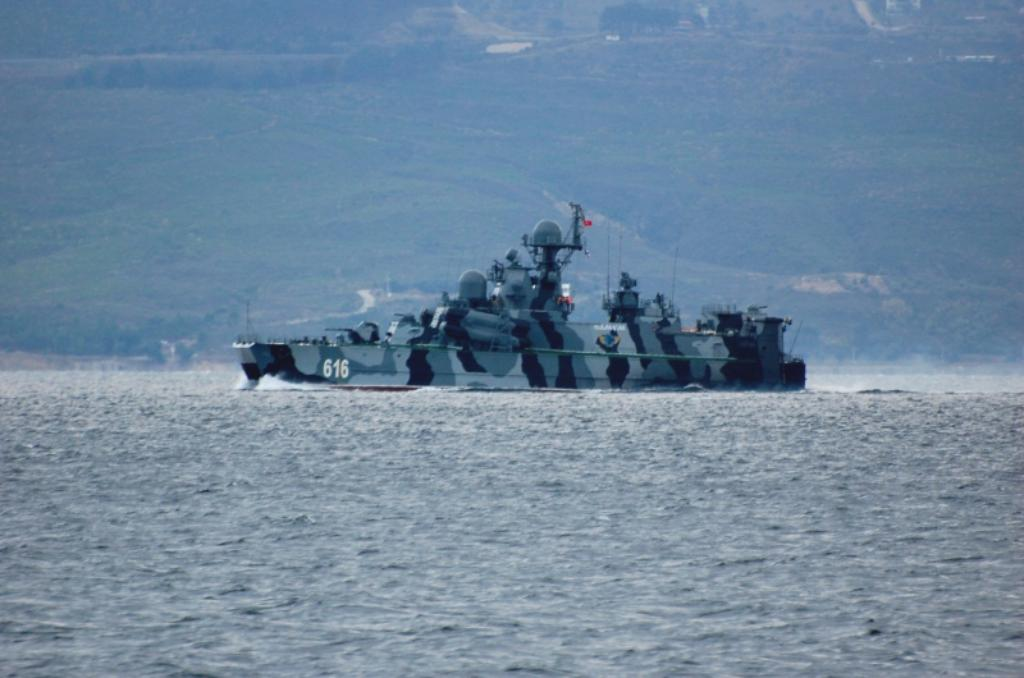Warship: (230, 198, 808, 390)
